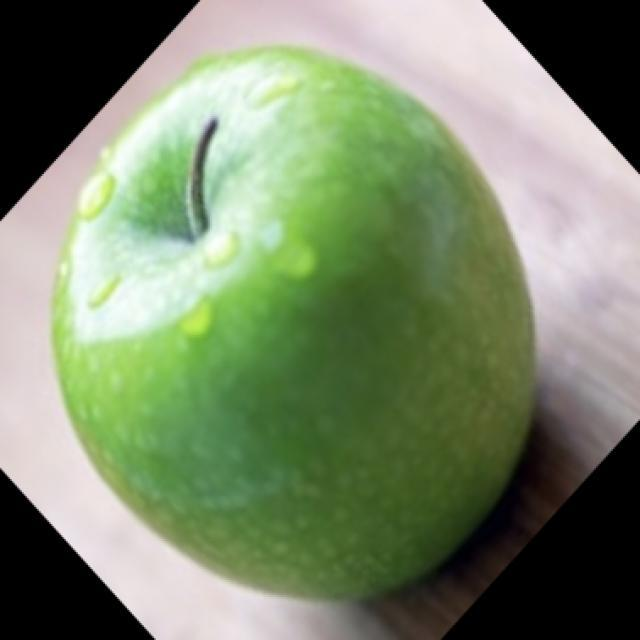Fresh Apple: (53, 47, 535, 599)
